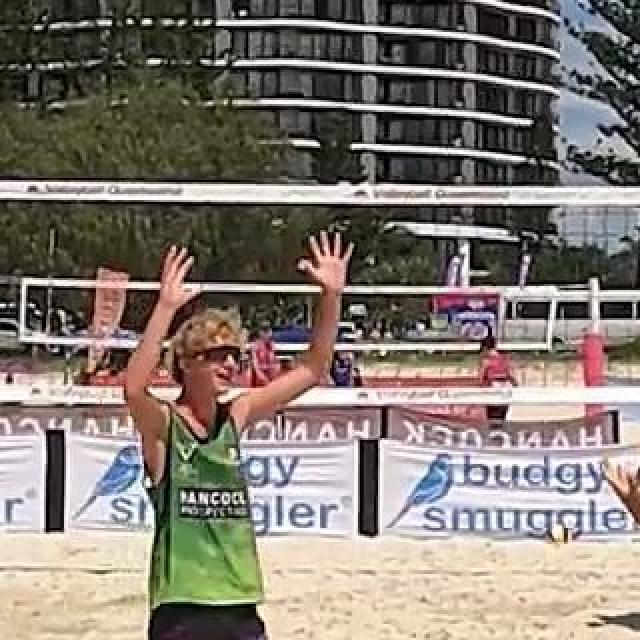volleyball: (548, 522, 574, 548)
